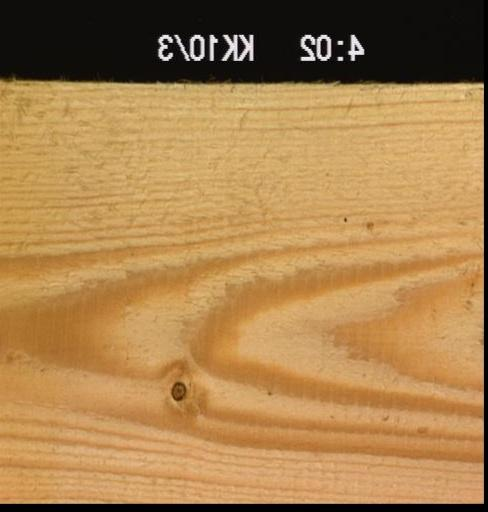dry_knot: (168, 378, 186, 400)
